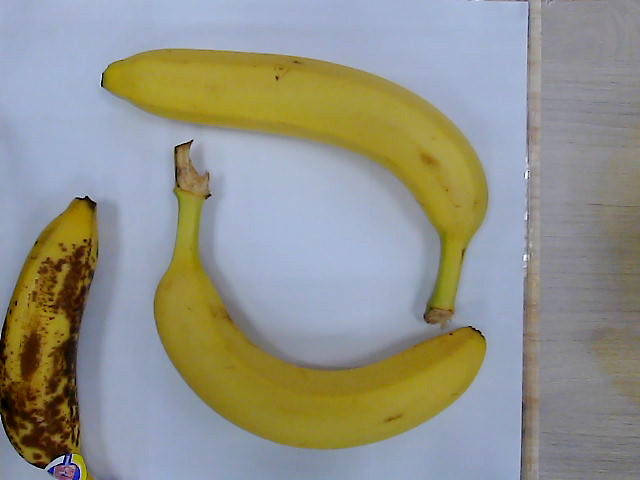fresh_banana: (100, 50, 490, 324), (154, 139, 486, 451)
rotten_banana: (3, 194, 97, 480)
